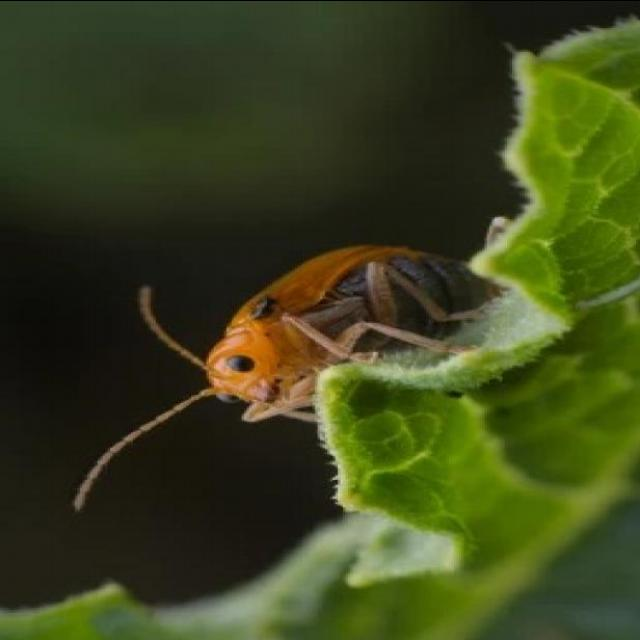Pumpkin Beetle: (66, 232, 508, 523)
